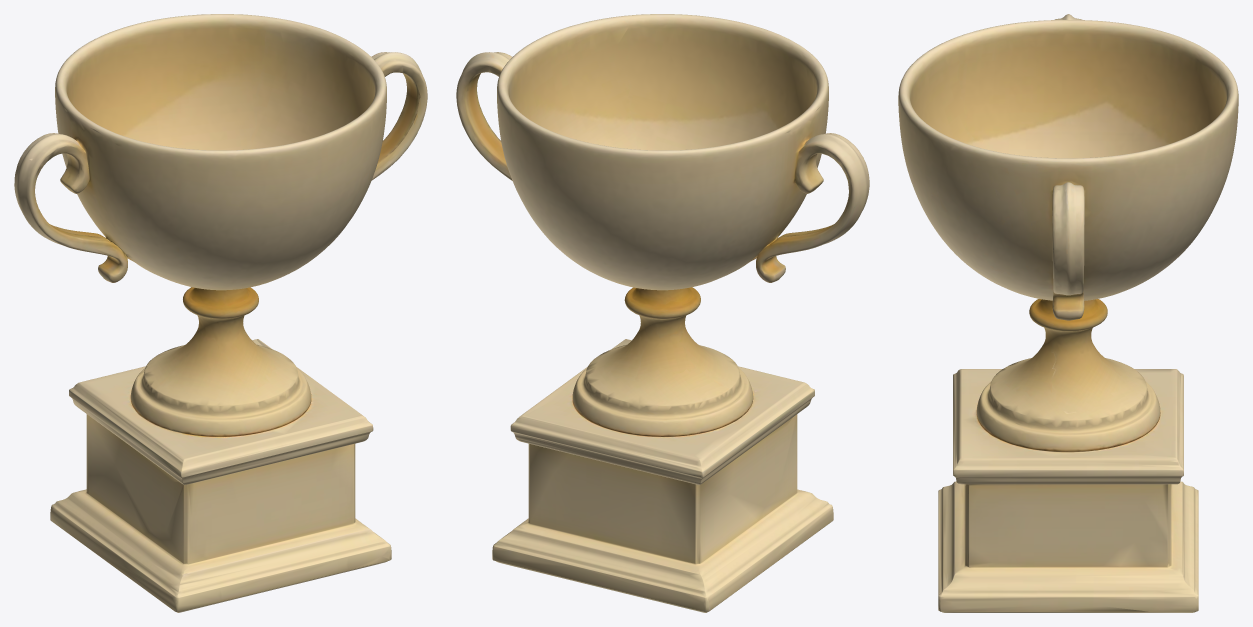
File: 奖杯A.glb
3 views of the same model, side by side, from view 1: azimuth 30°, elevation 25°; view 2: azimuth 150°, elevation 25°; view 3: azimuth 270°, elevation 25° (orthographic). The views are drawn at different scales.
Visible parts, largest first — view 1: node_0; view 2: node_0; view 3: node_0.
Boxes of the visible parts, <box> form: node_0: <box>14,14,427,612</box>; node_0: <box>456,14,869,612</box>; node_0: <box>898,14,1238,612</box>.
Size of the model in its own units: 0.884 by 0.9568 by 0.6254.
1 material, 1 textured.
